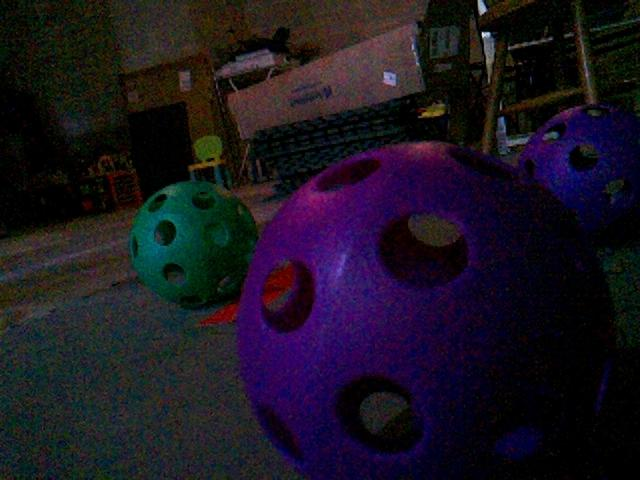Green: (126, 180, 261, 309)
Purple: (234, 142, 617, 476), (515, 104, 640, 244)
